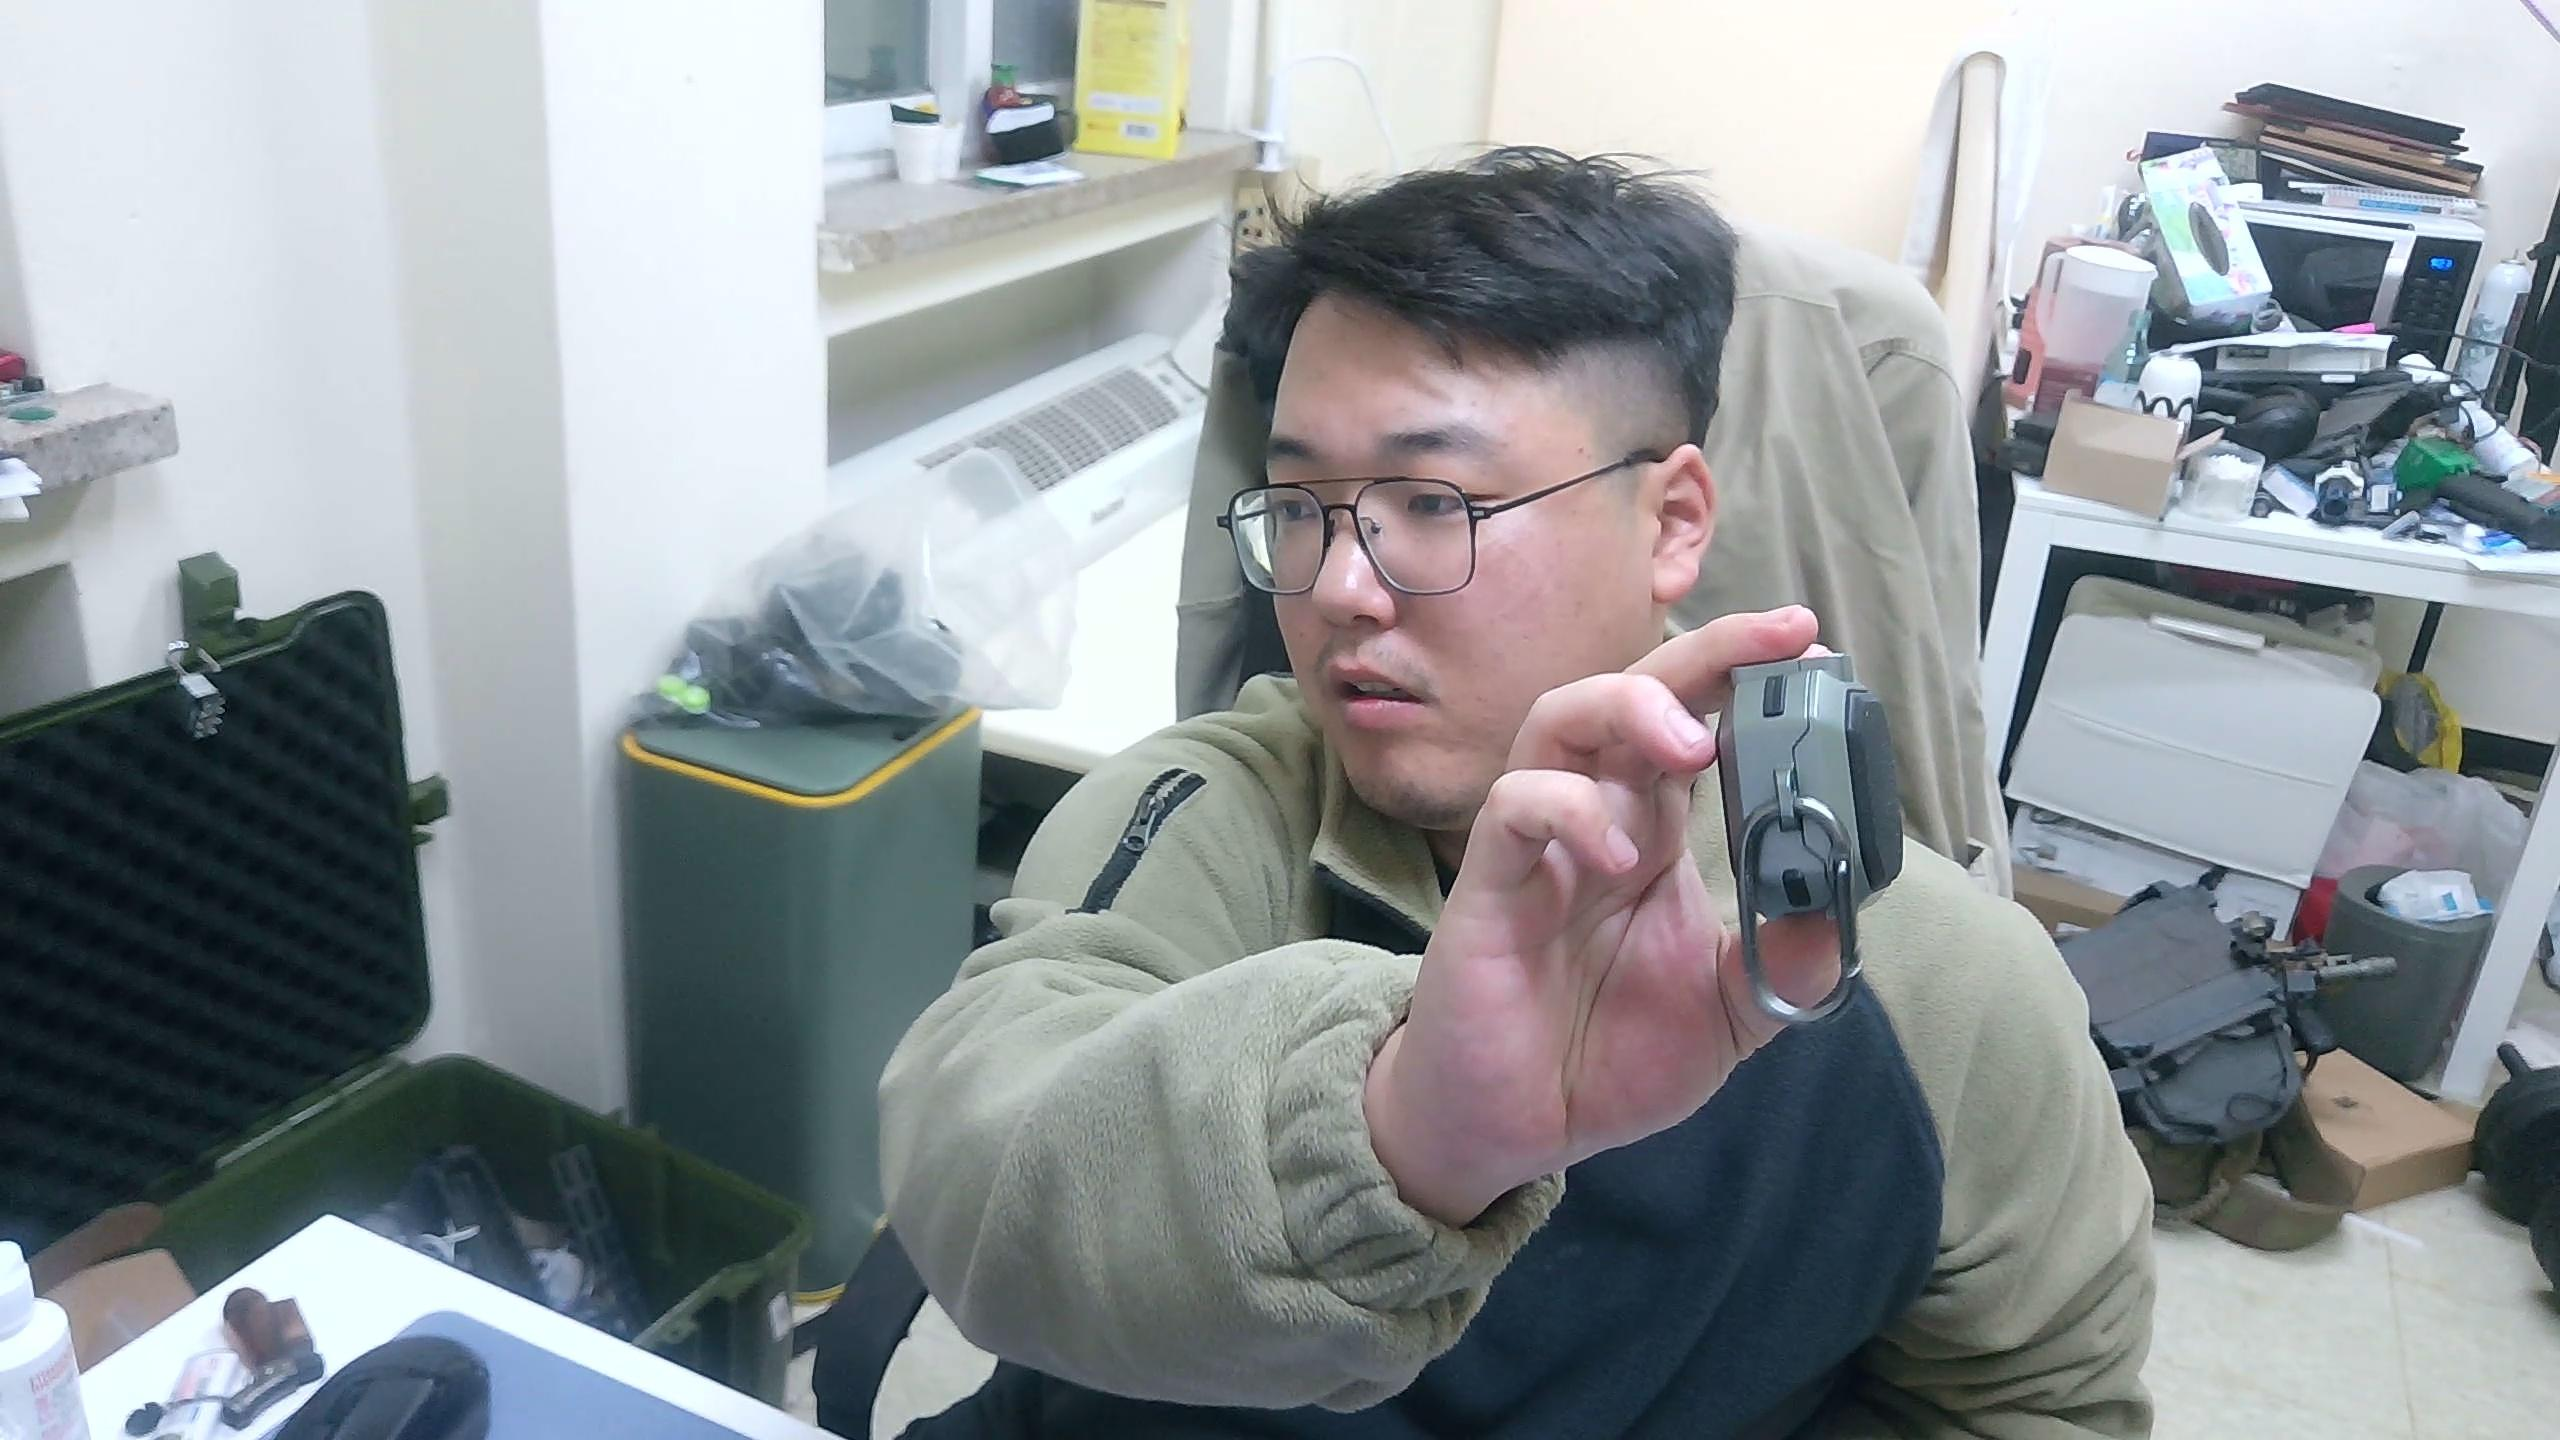blue_pliers: (1716, 645, 1906, 1027)
